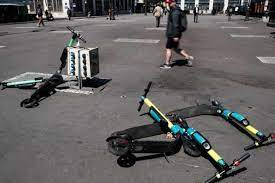fallin_kick: (110, 117, 248, 181), (108, 81, 201, 155), (167, 101, 275, 149), (1, 74, 62, 107)
kick_wheel: (66, 24, 87, 42)
